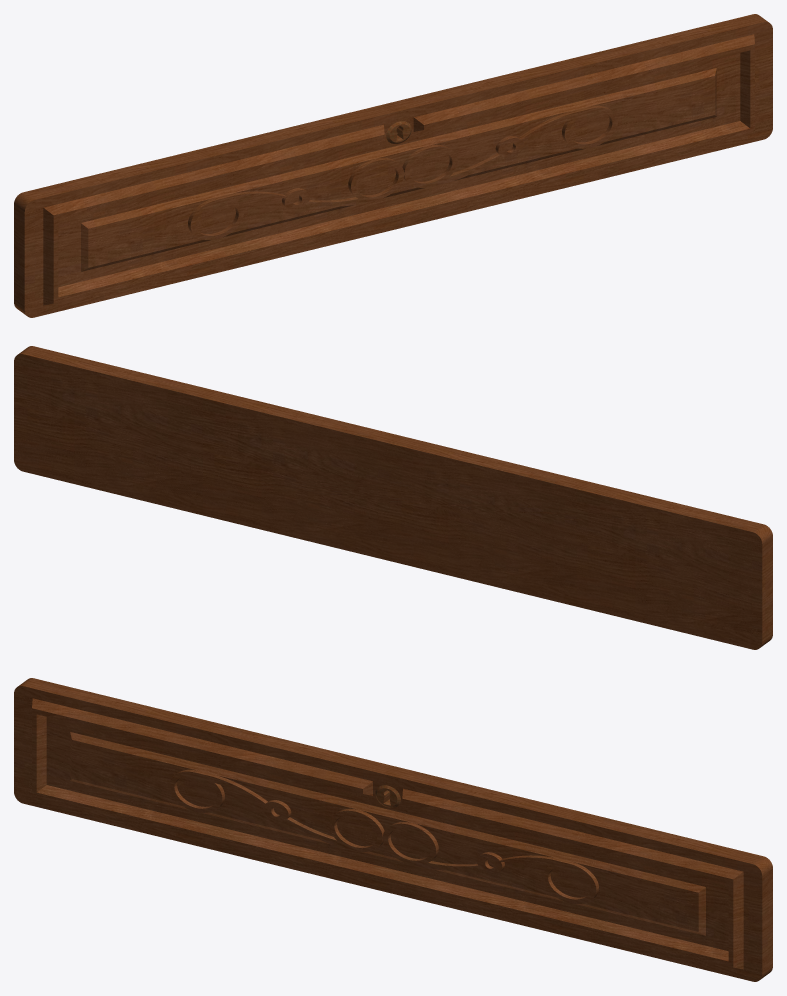
The model's file is original-5.obj.
3 views of the same model, one above another, from view 1: azimuth 30°, elevation 25°; view 2: azimuth 150°, elevation 25°; view 3: azimuth 330°, elevation 25° (orthographic).
Visible parts, largest first — view 1: mesh2/mesh2-geometry#mesh2-geometry; view 2: mesh2/mesh2-geometry#mesh2-geometry; view 3: mesh2/mesh2-geometry#mesh2-geometry.
Part boxes in pixels (x1=…): mesh2/mesh2-geometry#mesh2-geometry: x1=14, y1=14, x2=772, y2=317; mesh2/mesh2-geometry#mesh2-geometry: x1=14, y1=346, x2=772, y2=649; mesh2/mesh2-geometry#mesh2-geometry: x1=14, y1=678, x2=772, y2=981.
Size of the model in its own units: 0.837 by 0.1255 by 0.0314.
3 materials, 1 textured.
